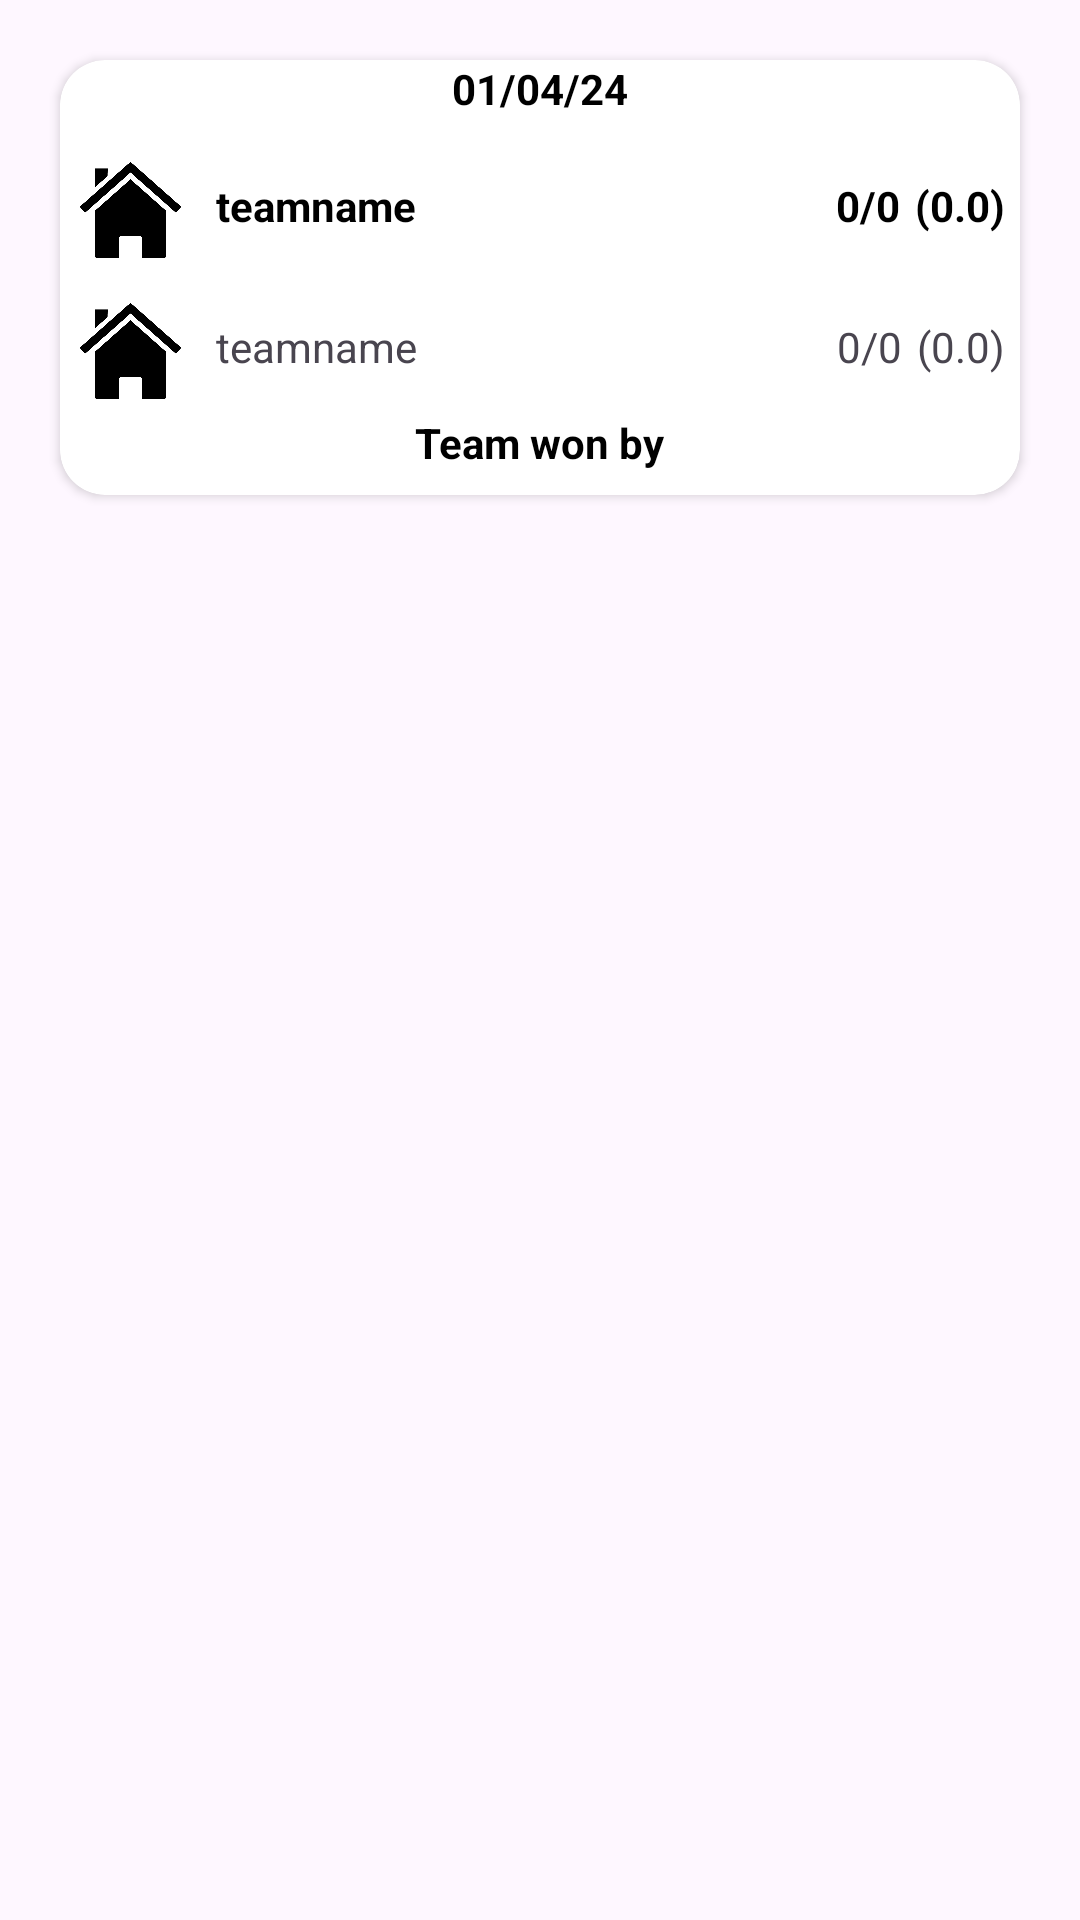

Where icons sit on this 1080 × 1920 app screen, as bbox=[x1, y1, x2, y2]:
home: bbox=[80, 162, 181, 258], bbox=[80, 303, 181, 399]
